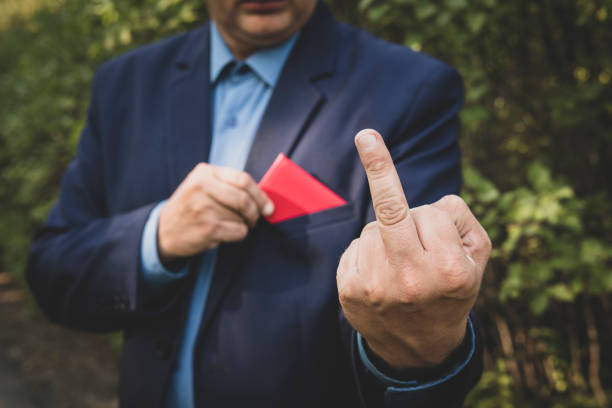insulting_gesture: (336, 128, 488, 368)
